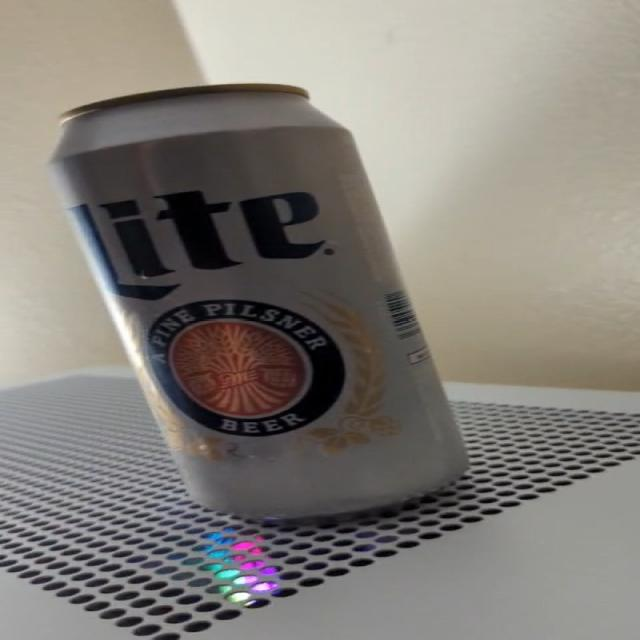metal: (51, 85, 467, 519)
